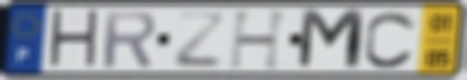C: (362, 9, 419, 71)
H: (226, 8, 293, 72), (45, 7, 102, 72)
M: (294, 7, 369, 73)
R: (101, 9, 159, 71)
Z: (171, 10, 228, 70)
